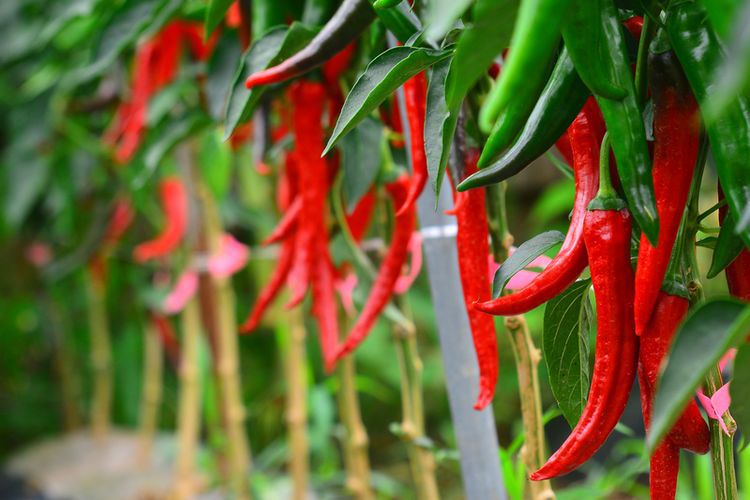Cabai: (523, 149, 698, 484)
